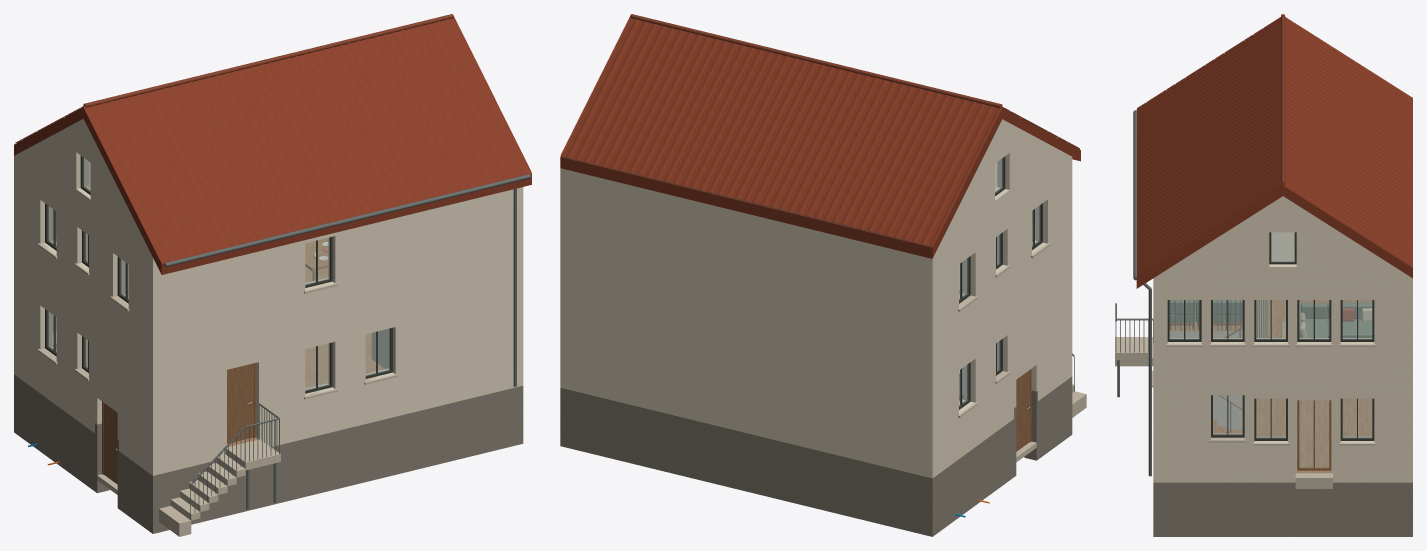
File: haus.glb
3 views of the same model, side by side, from view 1: azimuth 30°, elevation 25°; view 2: azimuth 150°, elevation 25°; view 3: azimuth 270°, elevation 25° (orthographic). The views are drawn at different scales.
Visible parts, largest first — view 1: dach · Unglasierter Tonziegel, eg · Kalkputz warmweiß · Schnitt, og · Kalkputz warmweiß · Schnitt, sockel · Sockel mineralisch, dach · Kalkputz warmweiß, deckeEg · Kalkputz warmweiß, eg · Kalkputz warmweiß, eg · Werkstein, eg · Haustür Eiche · Schnitt, dach · Rinne und Geländer, eg · Fensterglas · Schnitt, eg · Rinne und Geländer (+9 smaller); view 2: dach · Unglasierter Tonziegel, eg · Kalkputz warmweiß, og · Kalkputz warmweiß, sockel · Sockel mineralisch, eg · Kalkputz warmweiß · Schnitt, og · Kalkputz warmweiß · Schnitt, dach · Kalkputz warmweiß, deckeEg · Kalkputz warmweiß, deckeOg · Kalkputz warmweiß, dach · Firstziegel, eg · Haustür Eiche · Schnitt, og · Fensterrahmen · Schnitt (+2 smaller); view 3: dach · Unglasierter Tonziegel, eg · Kalkputz warmweiß, og · Kalkputz warmweiß, sockel · Sockel mineralisch, dach · Kalkputz warmweiß, og · Fensterglas, eg · Fensterglas, eg · Dielen, og · Polsterstoff salbei, deckeEg · Kalkputz warmweiß, deckeOg · Kalkputz warmweiß, eg · Werkstein (+16 smaller).
Boxes of the visible parts, box(x1,y1,x2,y2) form: dach · Unglasierter Tonziegel: box(14, 16, 531, 274); eg · Kalkputz warmweiß · Schnitt: box(21, 274, 523, 465); og · Kalkputz warmweiß · Schnitt: box(21, 170, 523, 359); sockel · Sockel mineralisch: box(14, 374, 523, 533); dach · Kalkputz warmweiß: box(14, 118, 152, 257); deckeEg · Kalkputz warmweiß: box(14, 258, 523, 370); eg · Kalkputz warmweiß: box(14, 269, 523, 475); eg · Werkstein: box(97, 439, 280, 536); eg · Haustür Eiche · Schnitt: box(102, 363, 256, 484); dach · Rinne und Geländer: box(15, 143, 530, 386); eg · Fensterglas · Schnitt: box(47, 311, 389, 390); eg · Rinne und Geländer: box(190, 403, 279, 519); dach · Unglasierter Tonziegel: box(560, 17, 1080, 258); eg · Kalkputz warmweiß: box(560, 281, 1072, 478); og · Kalkputz warmweiß: box(560, 177, 939, 361); sockel · Sockel mineralisch: box(560, 376, 1072, 536); eg · Kalkputz warmweiß · Schnitt: box(939, 270, 1072, 462); og · Kalkputz warmweiß · Schnitt: box(939, 166, 1072, 355); dach · Kalkputz warmweiß: box(933, 119, 1071, 258); deckeEg · Kalkputz warmweiß: box(560, 260, 1072, 372); deckeOg · Kalkputz warmweiß: box(560, 157, 1072, 267); dach · Firstziegel: box(630, 14, 1002, 107); eg · Haustür Eiche · Schnitt: box(1016, 369, 1031, 451); og · Fensterrahmen · Schnitt: box(959, 203, 1042, 303); dach · Unglasierter Tonziegel: box(1136, 17, 1412, 288); eg · Kalkputz warmweiß: box(1153, 384, 1412, 482); og · Kalkputz warmweiß: box(1166, 286, 1412, 373); sockel · Sockel mineralisch: box(1153, 482, 1412, 536); dach · Kalkputz warmweiß: box(1154, 196, 1411, 278); og · Fensterglas: box(1170, 300, 1371, 339); eg · Fensterglas: box(1213, 395, 1371, 467); eg · Dielen: box(1226, 398, 1372, 472); og · Polsterstoff salbei: box(1169, 300, 1372, 337); deckeEg · Kalkputz warmweiß: box(1153, 374, 1412, 383); deckeOg · Kalkputz warmweiß: box(1153, 278, 1412, 286); eg · Werkstein: box(1115, 337, 1375, 488).
Bounding box in the file's own units: 11.63 × 10.77 × 8.2.
Materials: 46 (13 with a texture image).
